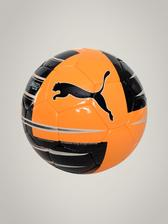other: (16, 45, 151, 178)
